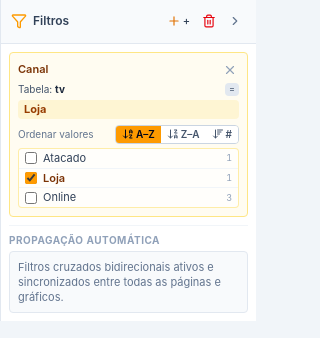
Test: FiltersPane basic filter card value list › toggles A-Z / Z-A / by count
This screenshot has width=320, height=338.
Later steps or results of the test are not shown.
Click the button "Z–A" at (183, 134), box [161,126,206,143]
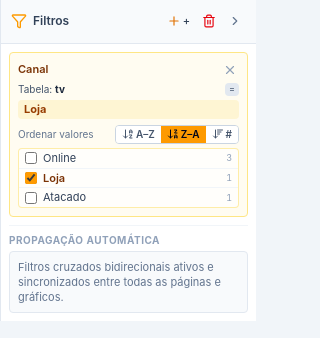
Click the button "#" at (222, 134), box [206,126,238,143]
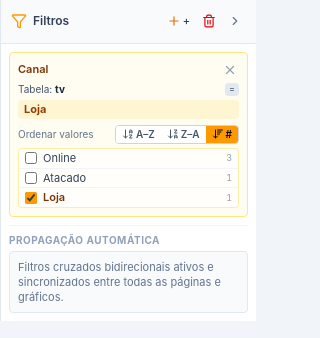
Now the button "#" is pressed, box [206,126,238,143]
